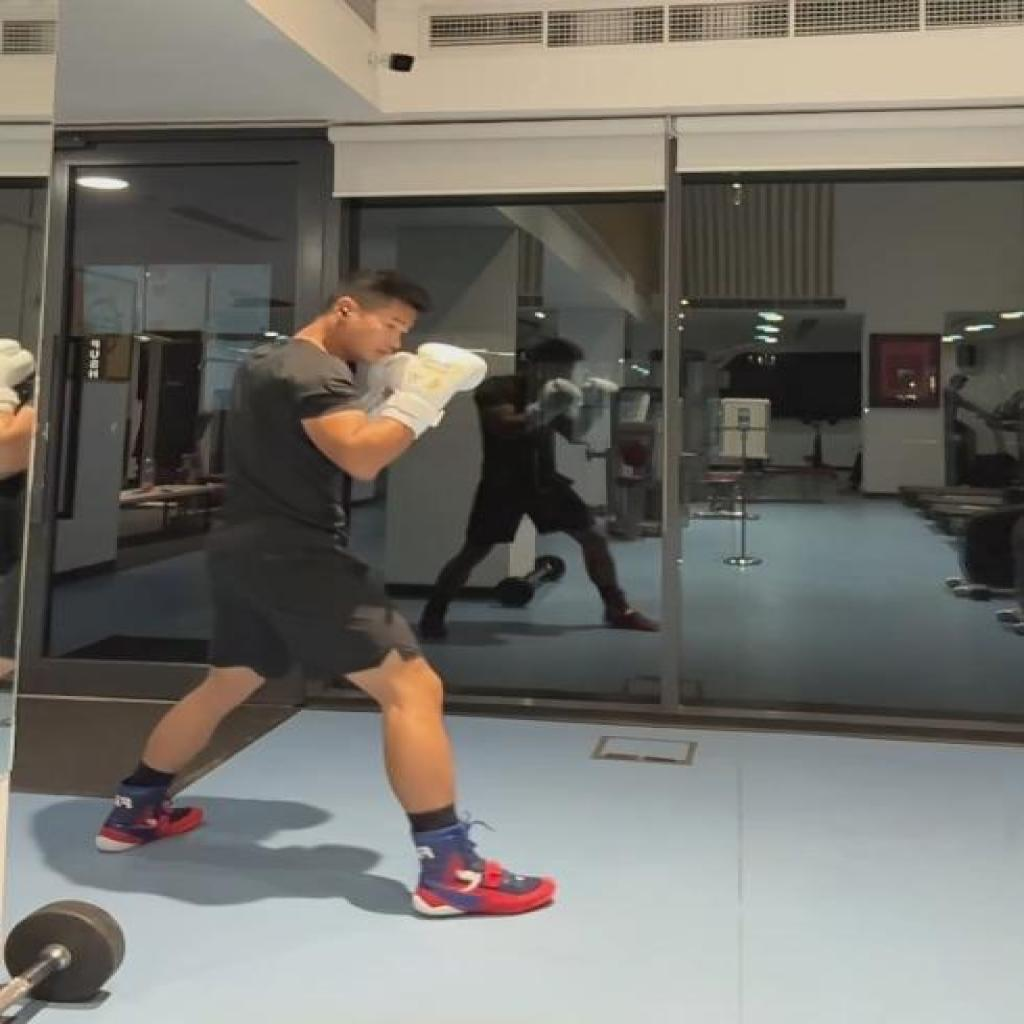no punch: (92, 269, 564, 923)
